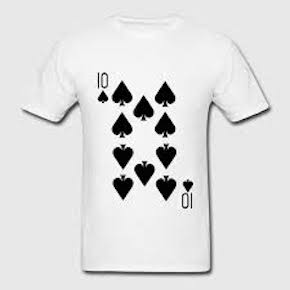TenOfSpades: (89, 63, 201, 221)
